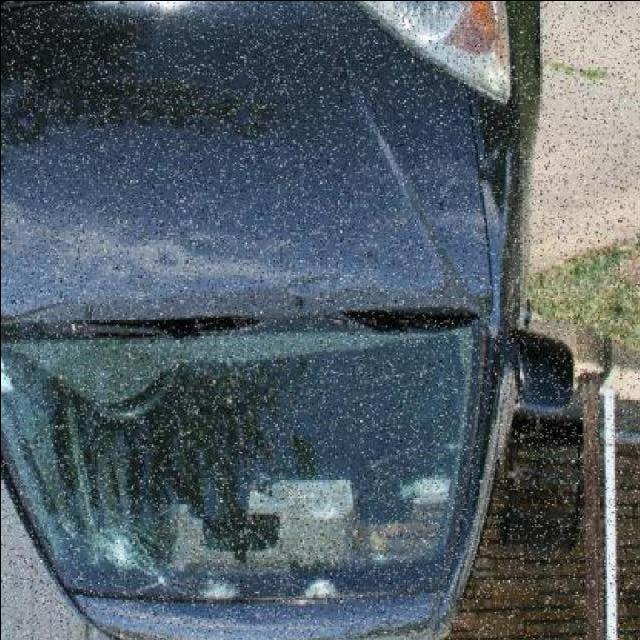Front-Windscreen-Damage: (15, 306, 483, 616)
bonnet-dent: (0, 72, 488, 308)
